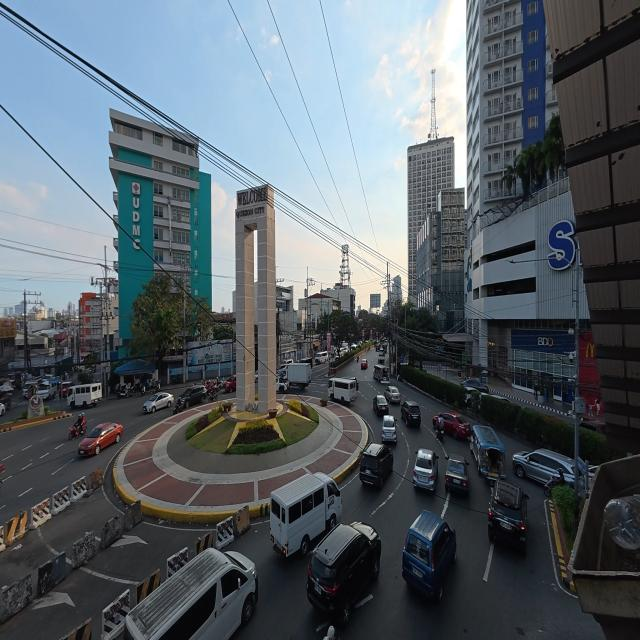car: (306, 521, 382, 624), (401, 509, 456, 604), (486, 477, 528, 554), (359, 442, 396, 490), (79, 422, 124, 457), (412, 448, 440, 492), (432, 413, 472, 441), (179, 382, 212, 406), (142, 391, 176, 414), (403, 404, 424, 430), (381, 415, 398, 443), (33, 384, 55, 401), (384, 386, 403, 404), (375, 394, 391, 414), (0, 379, 14, 393), (23, 385, 35, 399), (358, 358, 368, 368)
motorcycle: (69, 412, 86, 438)
trucks: (276, 360, 311, 392)
vans: (267, 469, 344, 558), (68, 383, 102, 409), (329, 374, 360, 402), (317, 352, 330, 363)
